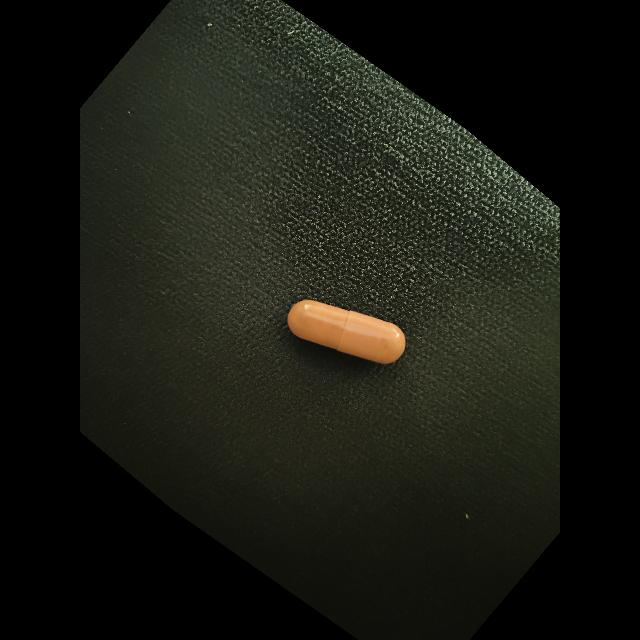Intact Capsule: (288, 299, 406, 364)
